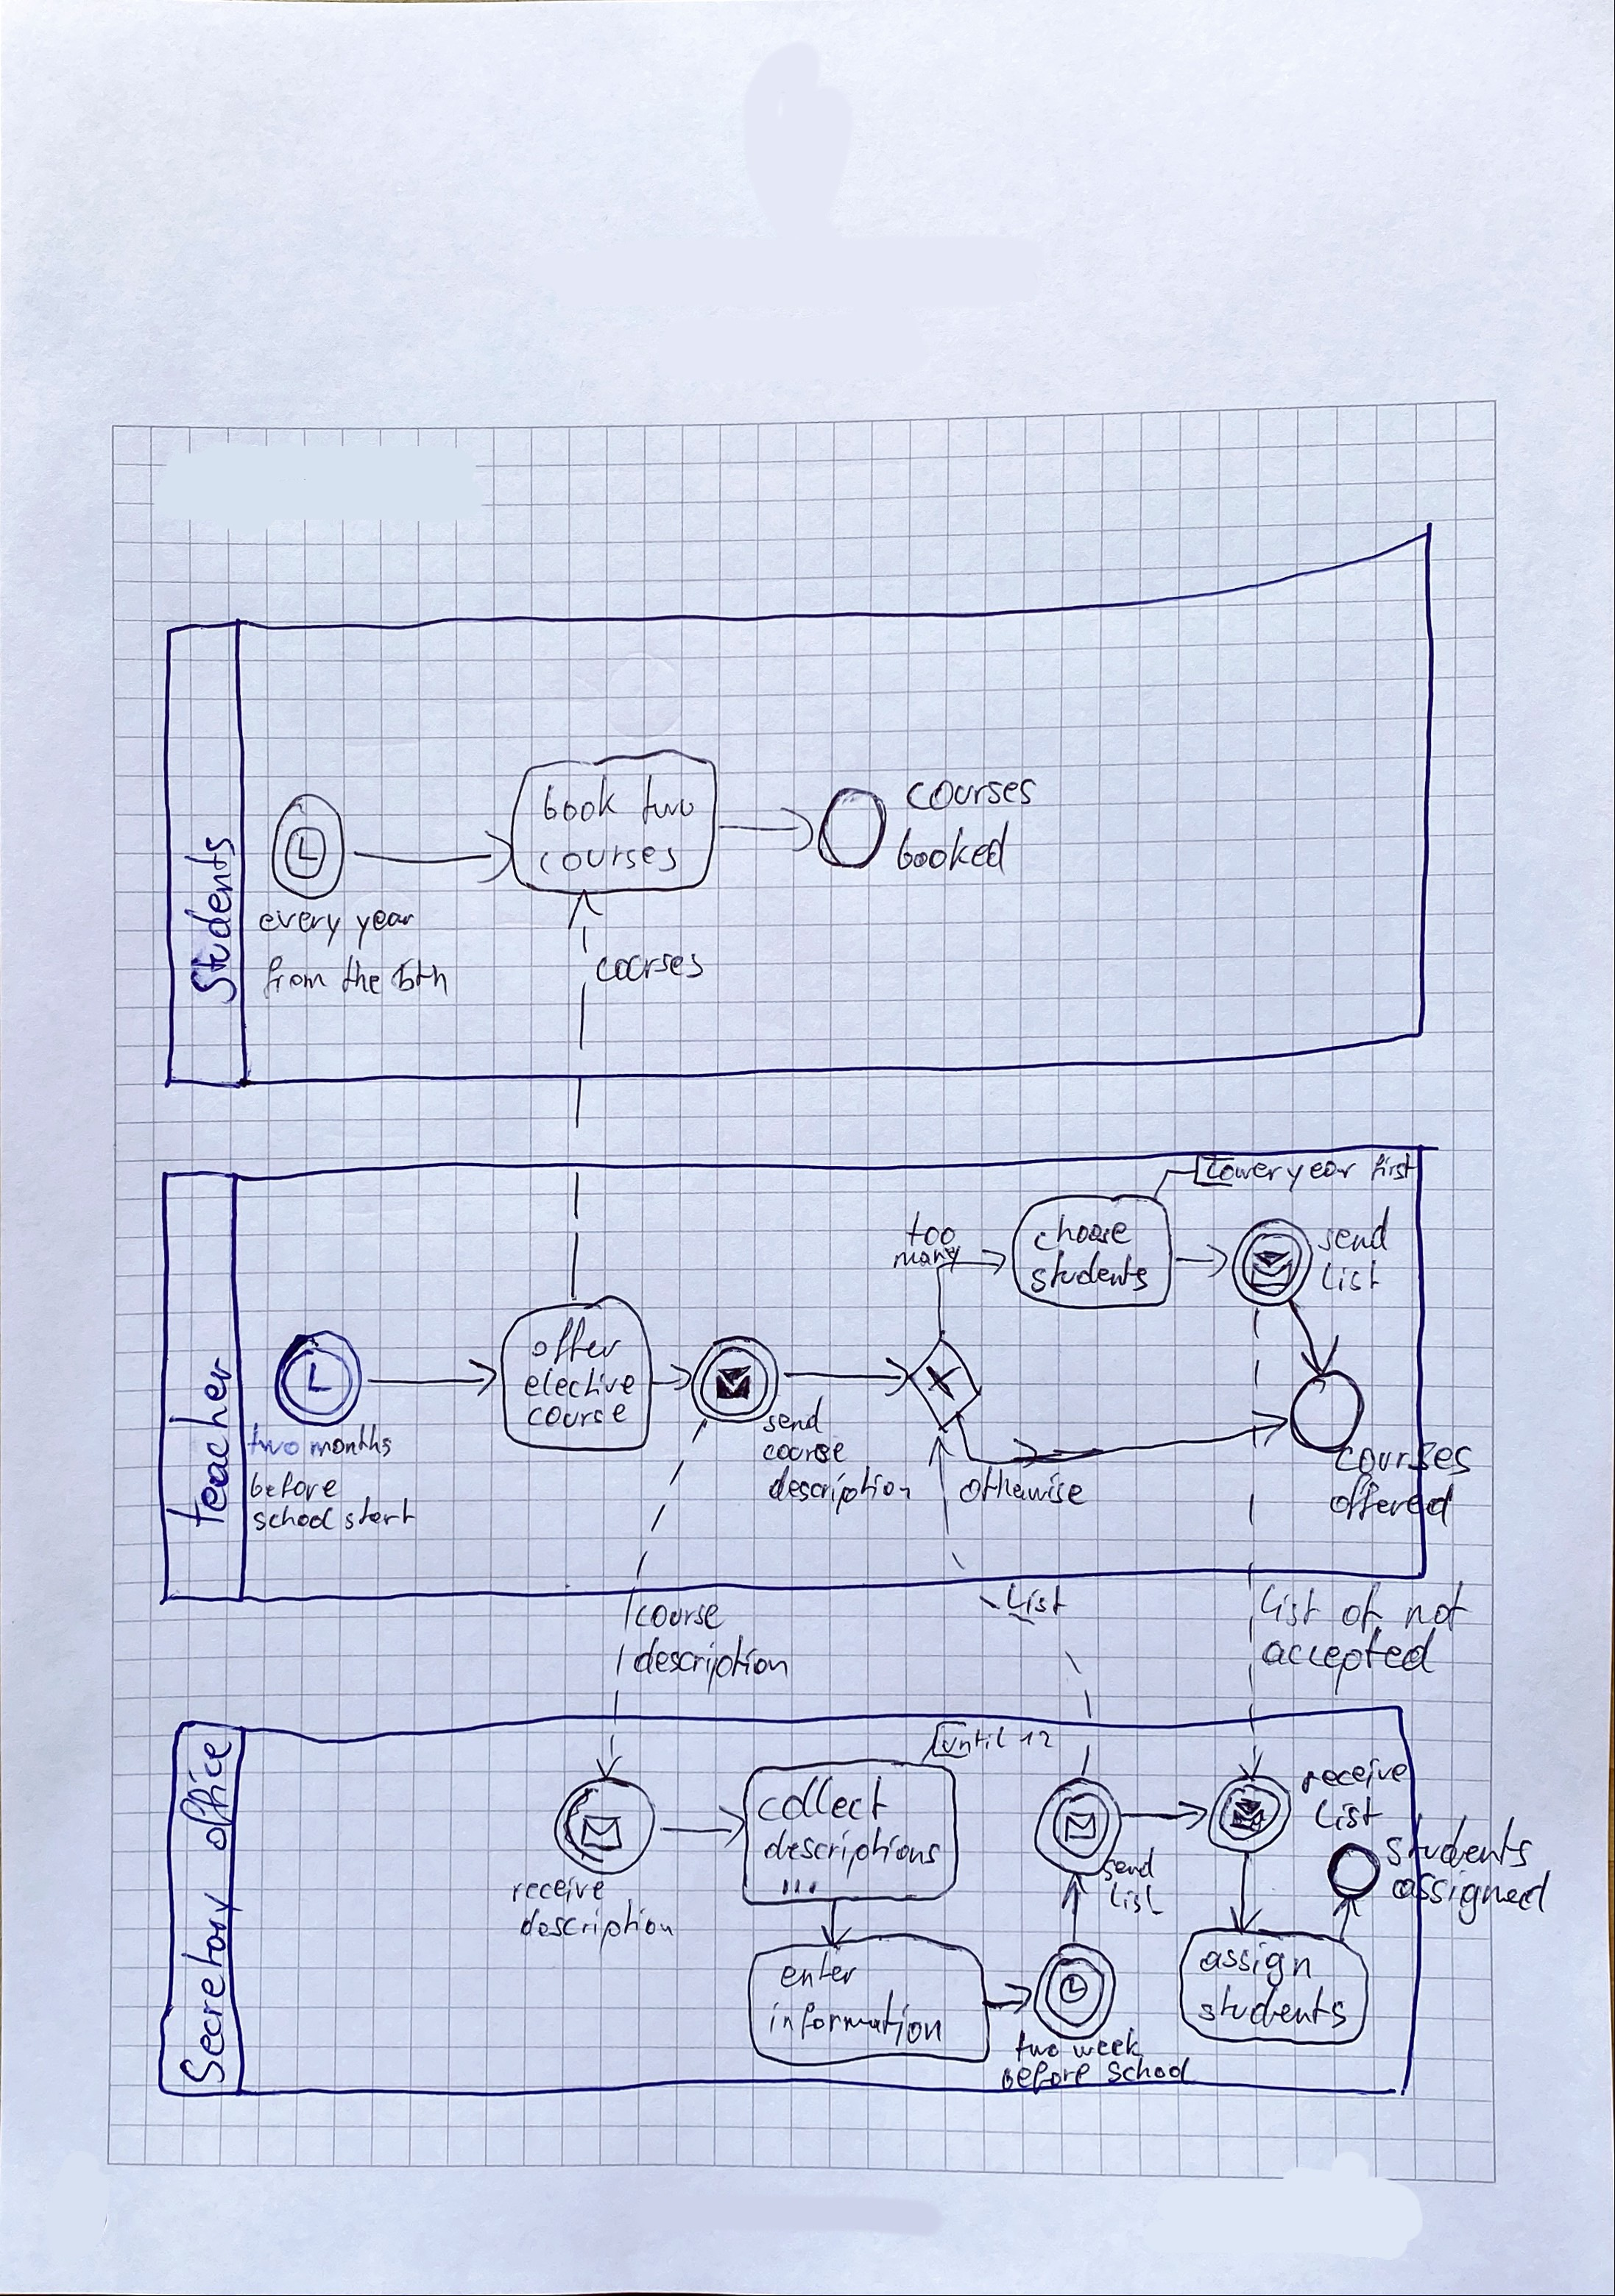12: (1019, 1728, 1058, 1751)
5th: (392, 960, 453, 995)
III: (778, 1876, 820, 1896)
Secretary: (180, 1889, 241, 2080)
Students: (184, 838, 239, 1000)
[lower: (1193, 1154, 1285, 1188)
[until: (933, 1720, 1006, 1759)
accepted: (1264, 1628, 1436, 1693)
assign: (1197, 1942, 1321, 1986)
assigned: (1392, 1869, 1555, 1924)
before: (1000, 2060, 1092, 2092), (249, 1469, 337, 1501)
book: (543, 775, 618, 820)
booked: (894, 824, 1011, 873)
choose: (1033, 1216, 1131, 1252)
collect: (757, 1774, 888, 1821)
course: (528, 1403, 629, 1426), (635, 1603, 724, 1628), (762, 1444, 848, 1463)
courses: (906, 773, 1039, 808), (1336, 1442, 1472, 1475), (538, 845, 680, 873), (595, 953, 704, 981)
description: (633, 1636, 789, 1691), (520, 1901, 675, 1953), (768, 1466, 911, 1516)
descriptions: (764, 1829, 940, 1877)
elective: (523, 1366, 636, 1396)
enter: (782, 1953, 856, 1988)
every: (258, 912, 342, 947)
first: (1369, 1151, 1417, 1183)
from: (264, 956, 328, 999)
information: (767, 1989, 942, 2046)
list: (1260, 1582, 1320, 1626), (1316, 1795, 1382, 1832), (1006, 1580, 1067, 1616), (1108, 1883, 1164, 1917), (1320, 1262, 1379, 1292)
many: (893, 1245, 962, 1271)
months: (311, 1423, 392, 1456)
not: (1405, 1583, 1469, 1633)
of: (1340, 1581, 1385, 1631)
offer: (532, 1315, 621, 1361)
offered: (1332, 1474, 1452, 1526)
office: (180, 1741, 236, 1848)
otherwise: (960, 1469, 1088, 1505)
receive: (1301, 1759, 1407, 1795), (510, 1873, 605, 1904)
school: (251, 1504, 333, 1533), (1105, 2059, 1192, 2084)
send: (1318, 1207, 1390, 1251), (763, 1394, 827, 1432), (1100, 1849, 1156, 1883)
start: (342, 1497, 417, 1531)
students: (1387, 1813, 1535, 1865), (1198, 1986, 1349, 2029), (1031, 1251, 1151, 1293)
teacher: (169, 1357, 232, 1525)
the: (341, 957, 383, 997)
too: (908, 1210, 956, 1248)
two: (637, 776, 694, 824), (244, 1425, 299, 1457), (1013, 2031, 1060, 2060)
week: (1075, 2026, 1142, 2062)
year: (355, 911, 417, 946), (1287, 1160, 1357, 1188)
